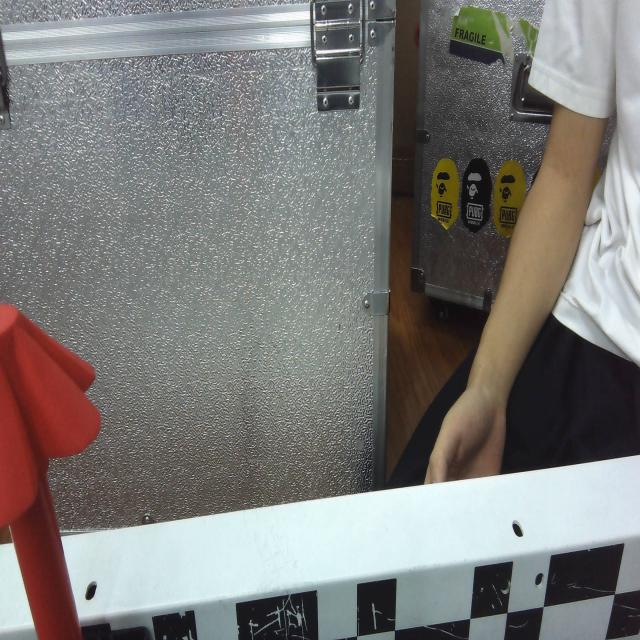zred-Stake-Head: (0, 301, 103, 530)
